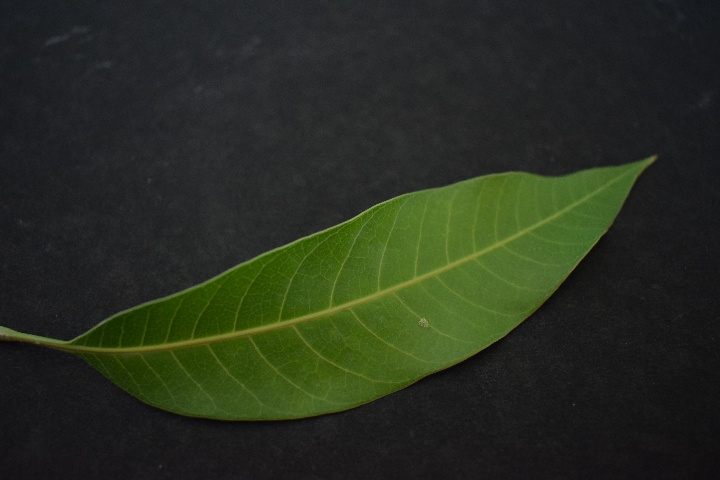healthy: (66, 156, 672, 423)
